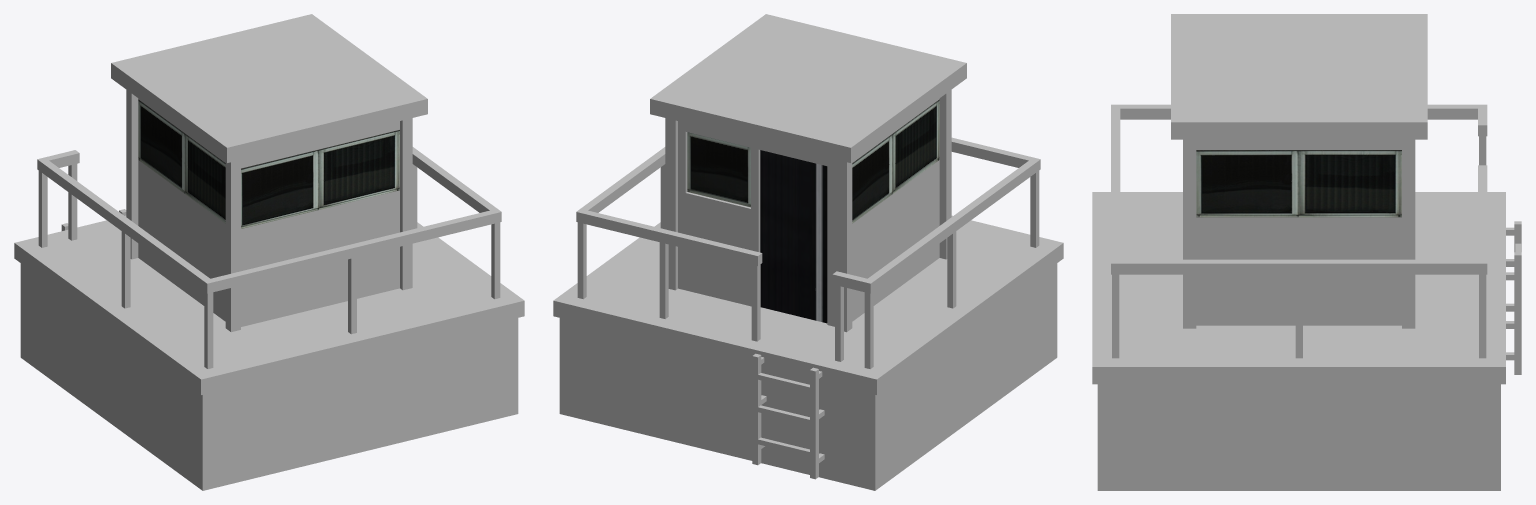
File: Cabin-03.fbx
The picture shows the model from 3 angles, left to right: view 1: azimuth 30°, elevation 25°; view 2: azimuth 150°, elevation 25°; view 3: azimuth 270°, elevation 25°; orthographic projection. The views are drawn at different scales.
Visible parts, largest first — view 1: Cabin-03; view 2: Cabin-03; view 3: Cabin-03.
Part boxes in pixels (<box>): Cabin-03: <box>14,14,524,490</box>; Cabin-03: <box>553,14,1063,490</box>; Cabin-03: <box>1092,14,1521,490</box>.
Size of the model in its own units: 356 by 321 by 370.
